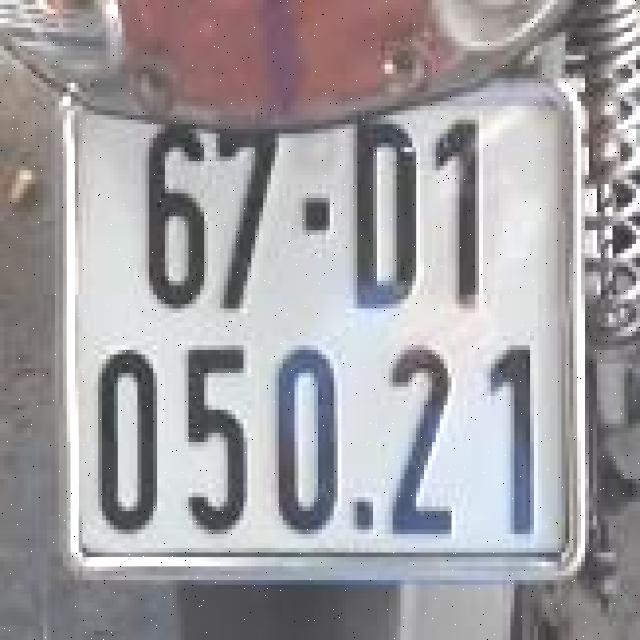0: (269, 336, 347, 539), (84, 329, 159, 523)
1: (475, 325, 550, 541), (430, 113, 497, 329)
2: (373, 334, 459, 550)
5: (181, 320, 255, 541)
6: (135, 111, 218, 313)
7: (216, 92, 283, 322)
D: (336, 99, 434, 325)
